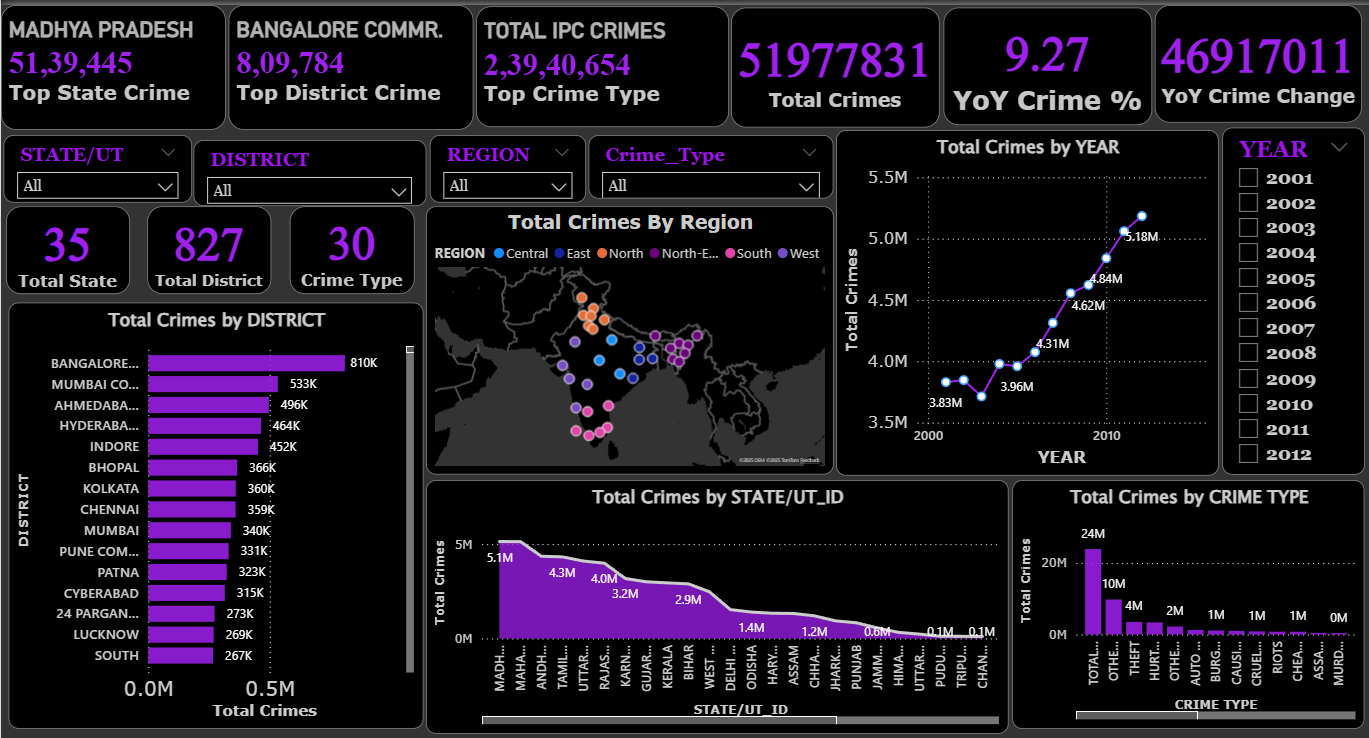

The dashboard page shown, as its layout file describes it:
{"tool":"powerbi","page":{"name":"Page 1","canvas":[1366,730],"ordinal":0},"visuals":[{"type":"actionButton","box":[0,0,100,40],"z":0},{"type":"lineChart","fields":{"Category":["Dim_Year.YEAR"],"Y":["Fact_Crimes.CrimeCount"]},"box":[828.6,124.3,380,342.9],"z":1000},{"type":"columnChart","fields":{"Category":["Fact_Crimes.Crime_Type"],"Y":["Fact_Crimes.Total Crimes"]},"box":[1003.9,471.5,349.9,246.9],"z":2000},{"type":"azureMap","title":"Total Crimes By Region","fields":{"Category":["Dim_District.STATE/UT"],"Series":["Dim_Region.REGION"]},"box":[421.9,199.8,404.5,266.8],"z":3000},{"type":"card","fields":{"Values":["Fact_Crimes.Total Crimes"]},"box":[725,2.5,207.2,119.1],"z":4000},{"type":"card","fields":{"Values":["ALL MEASURES.YoY Crime Change"]},"box":[1145.4,0,206,116.6],"z":5000},{"type":"card","fields":{"Values":["ALL MEASURES.YoY Crime %"]},"box":[935.7,2.5,207.2,116.6],"z":6000},{"type":"multiRowCard","fields":{"Values":["ALL MEASURES.Top State Crime","ALL MEASURES.Top State Name"]},"box":[0,0,223.6,124.2],"z":7000},{"type":"slicer","fields":{"Values":["Dim_State.STATE/UT_ID"]},"box":[2.5,129.1,187.4,67],"z":8000},{"type":"slicer","fields":{"Values":["Dim_Year.YEAR"]},"box":[1212.4,121.6,141.5,345],"z":9000},{"type":"slicer","fields":{"Values":["Fact_Crimes.Crime_Type"]},"box":[583.2,129.1,243.2,63.3],"z":10000},{"type":"clusteredBarChart","fields":{"Y":["Fact_Crimes.Total Crimes"],"Category":["Dim_District.DISTRICT"]},"box":[7.4,295.3,412,423.2],"z":11000},{"type":"slicer","fields":{"Values":["Dim_Region.REGION"]},"box":[425.6,129.1,155.1,67],"z":12000},{"type":"card","fields":{"Values":["ALL MEASURES.District Count"]},"box":[145.2,199.8,122.9,86.9],"z":13000},{"type":"card","fields":{"Values":["ALL MEASURES.Distinct Crime Types"]},"box":[286.7,199.8,124.1,86.9],"z":14000},{"type":"card","fields":{"Values":["ALL MEASURES.State Count"]},"box":[5,199.8,122.9,86.9],"z":15000},{"type":"multiRowCard","fields":{"Values":["ALL MEASURES.Top Crime Type Name","ALL MEASURES.Top Crime Type Count"]},"box":[472,1.3,251,120.3],"z":16000},{"type":"multiRowCard","fields":{"Values":["ALL MEASURES.Top District Name","ALL MEASURES.Top District Crime"]},"box":[226.2,0,243.2,124.2],"z":17000},{"type":"slicer","fields":{"Values":["Dim_District.DISTRICT"]},"box":[191.1,134,230.8,65.8],"z":18000},{"type":"areaChart","fields":{"Category":["Dim_State.STATE/UT_ID"],"Y":["Fact_Crimes.Total Crimes"]},"box":[421.9,471.5,578.3,251.9],"z":19000}]}

Visuals, with their boxes in screenshot pixels (x1, y1, x2, y2), scaled from the page's 1366x730 canvas onto the 1369x738 screenshot:
actionButton: bbox(0, 0, 100, 40)
lineChart - Dim_Year.YEAR x Fact_Crimes.CrimeCount: bbox(830, 126, 1211, 472)
columnChart - Fact_Crimes.Crime_Type x Fact_Crimes.Total Crimes: bbox(1006, 477, 1357, 726)
"Total Crimes By Region" azureMap: bbox(423, 202, 828, 472)
card - Fact_Crimes.Total Crimes: bbox(727, 3, 934, 123)
card - ALL MEASURES.YoY Crime Change: bbox(1148, 0, 1354, 118)
card - ALL MEASURES.YoY Crime %: bbox(938, 3, 1145, 120)
multiRowCard - ALL MEASURES.Top State Crime x ALL MEASURES.Top State Name: bbox(0, 0, 224, 126)
slicer - Dim_State.STATE/UT_ID: bbox(3, 131, 190, 198)
slicer - Dim_Year.YEAR: bbox(1215, 123, 1357, 472)
slicer - Fact_Crimes.Crime_Type: bbox(584, 131, 828, 195)
clusteredBarChart - Fact_Crimes.Total Crimes x Dim_District.DISTRICT: bbox(7, 299, 420, 726)
slicer - Dim_Region.REGION: bbox(427, 131, 582, 198)
card - ALL MEASURES.District Count: bbox(146, 202, 269, 290)
card - ALL MEASURES.Distinct Crime Types: bbox(287, 202, 412, 290)
card - ALL MEASURES.State Count: bbox(5, 202, 128, 290)
multiRowCard - ALL MEASURES.Top Crime Type Name x ALL MEASURES.Top Crime Type Count: bbox(473, 1, 725, 123)
multiRowCard - ALL MEASURES.Top District Name x ALL MEASURES.Top District Crime: bbox(227, 0, 470, 126)
slicer - Dim_District.DISTRICT: bbox(192, 135, 423, 202)
areaChart - Dim_State.STATE/UT_ID x Fact_Crimes.Total Crimes: bbox(423, 477, 1002, 731)
